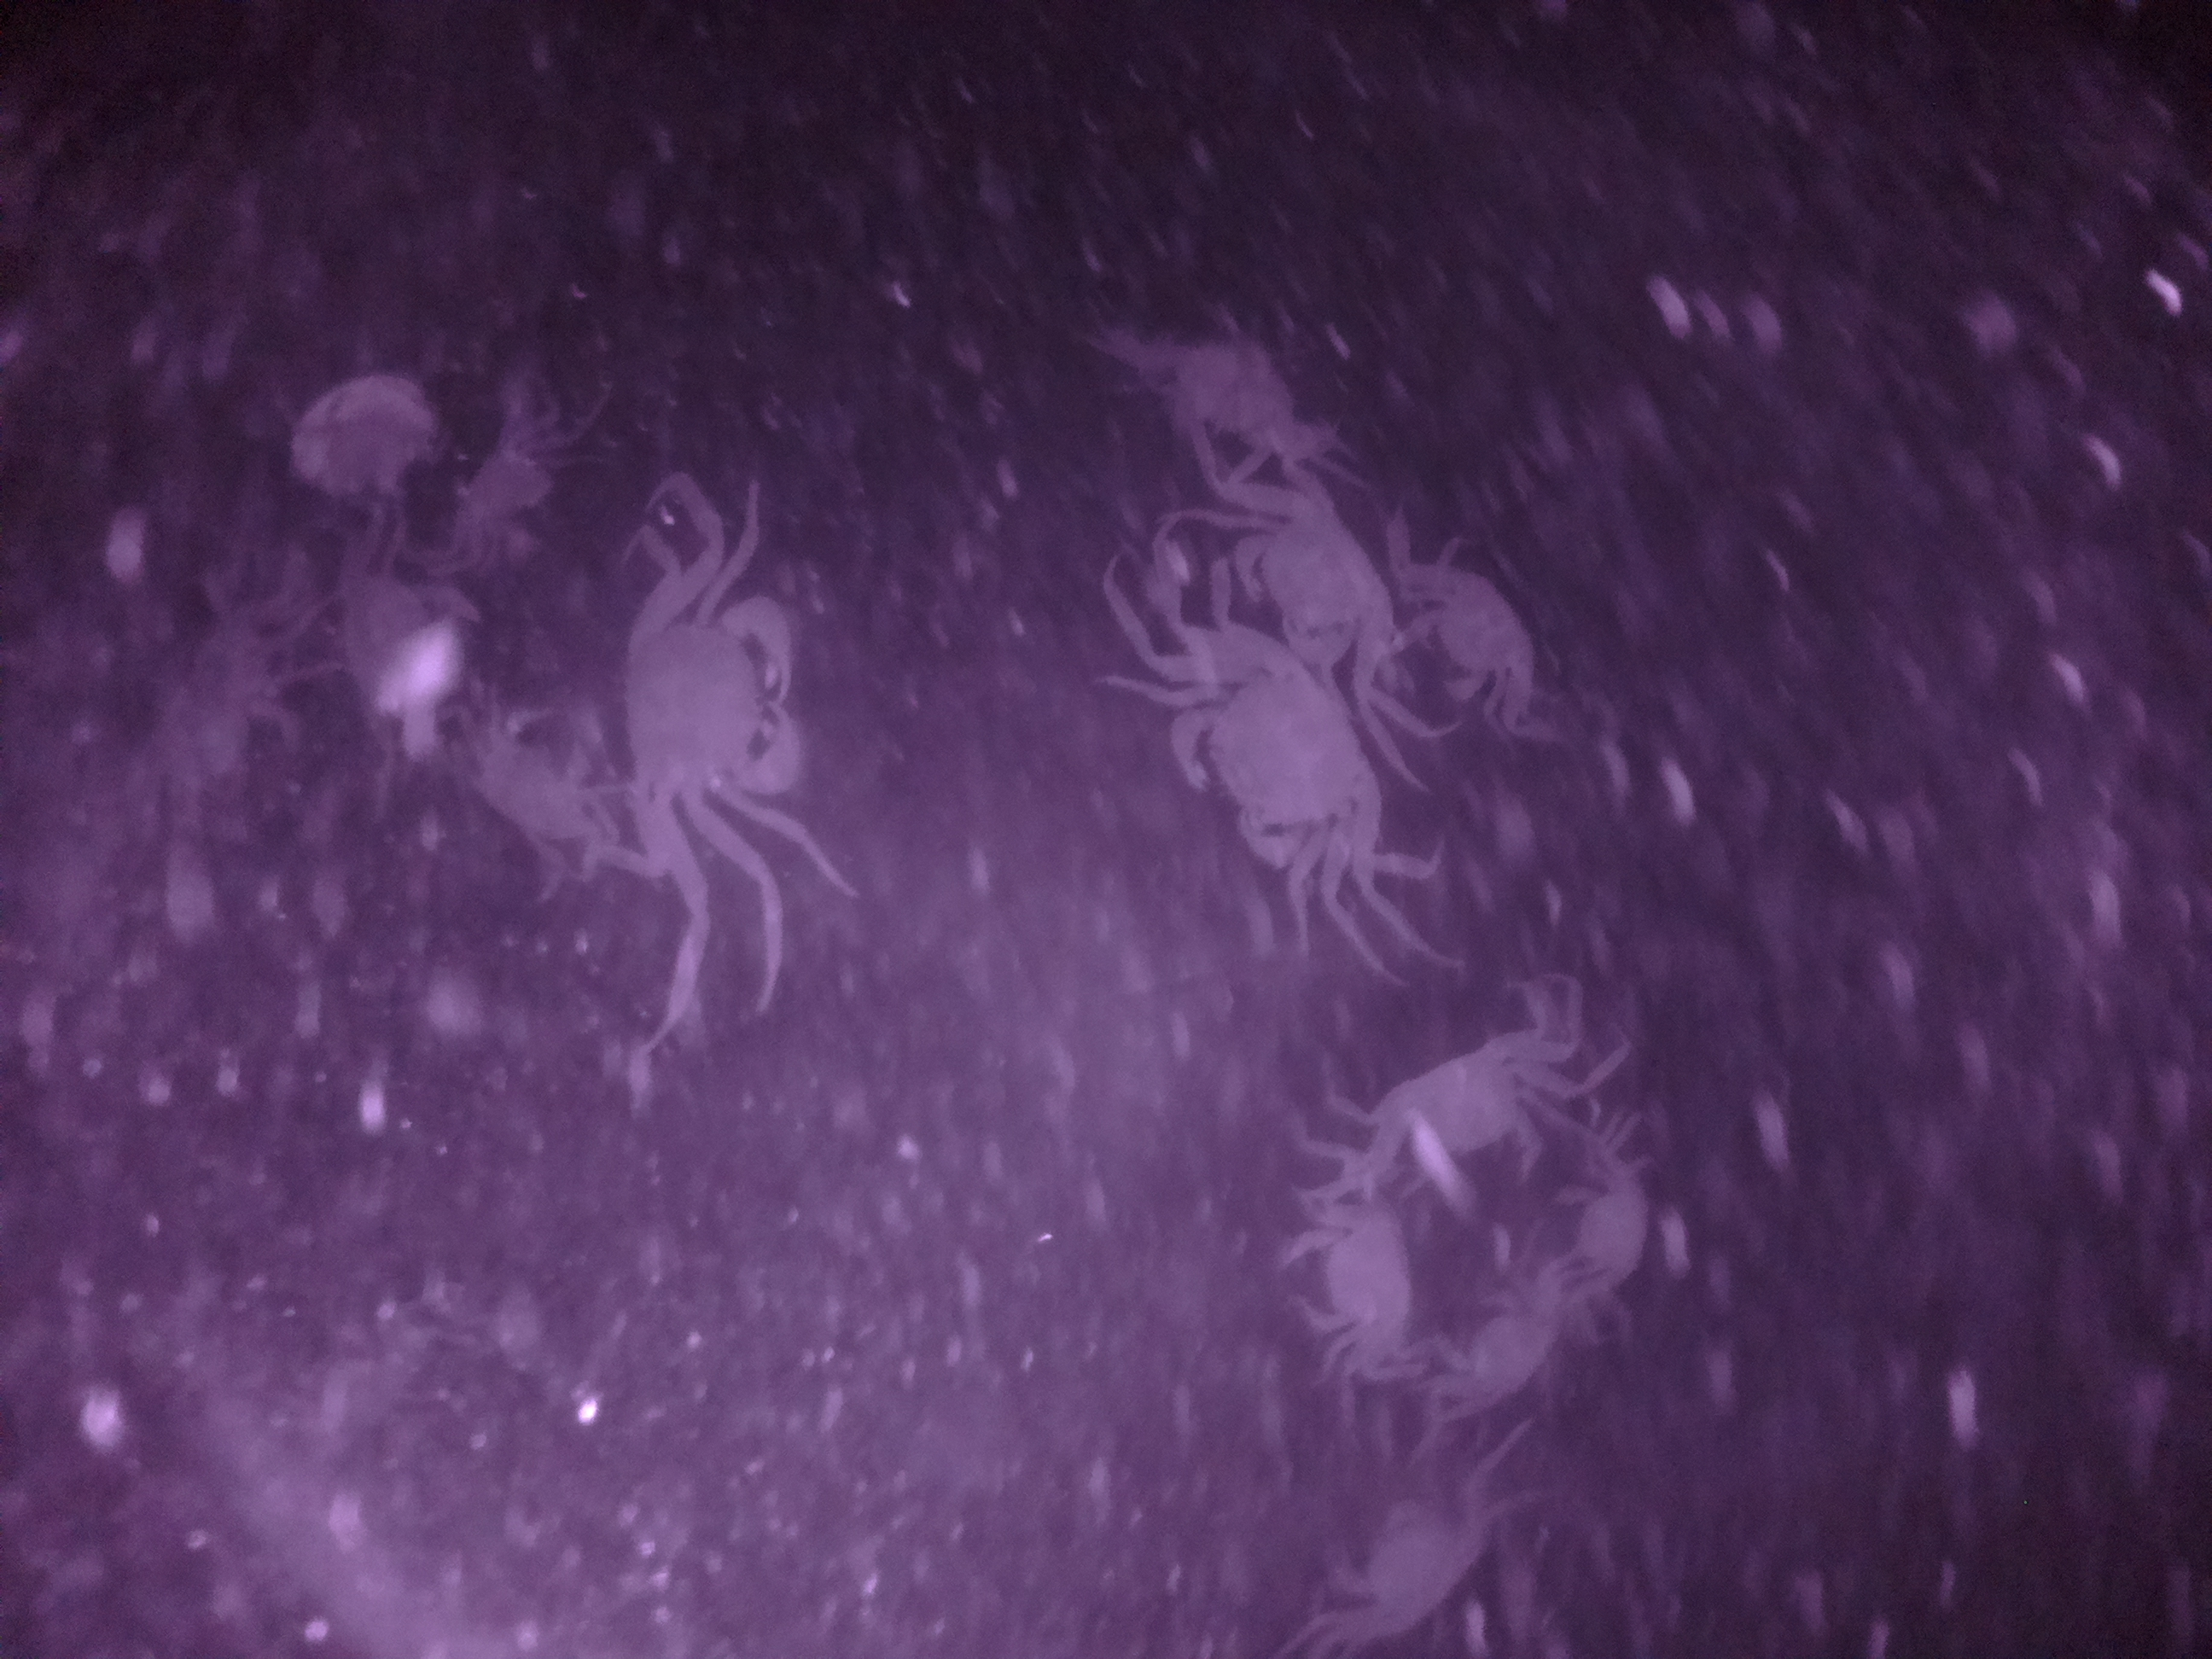Crab: (1148, 617, 1390, 906), (603, 559, 808, 859), (1381, 540, 1569, 721), (1268, 1190, 1426, 1375), (1540, 1155, 1689, 1312)
